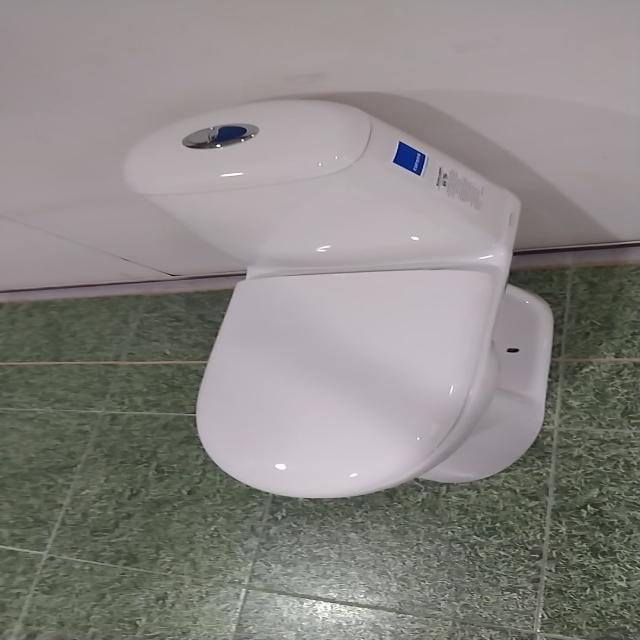toilet: (121, 97, 553, 499)
